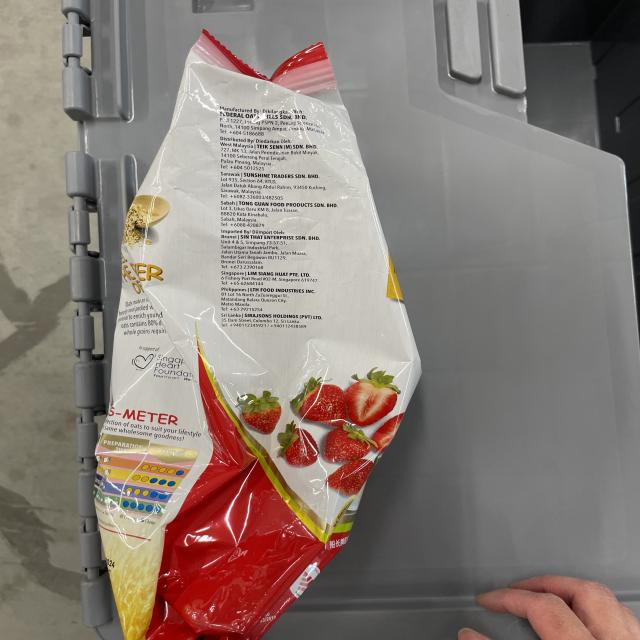object_name: (131, 67, 349, 618)
